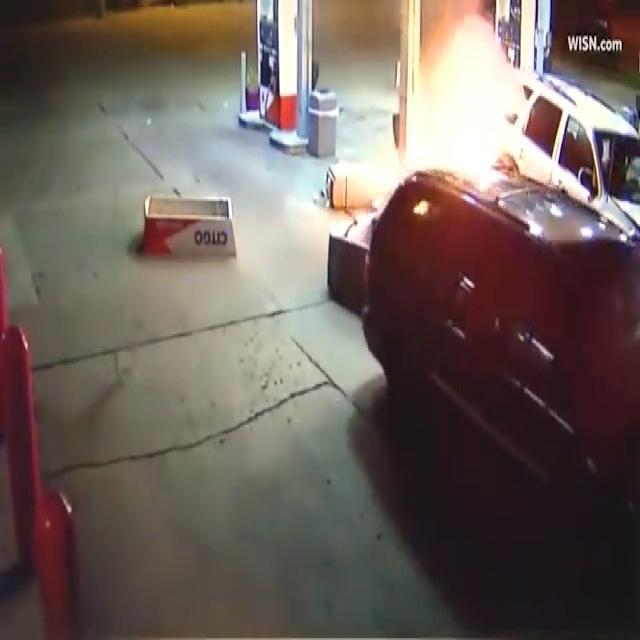Fire: (385, 2, 535, 200)
